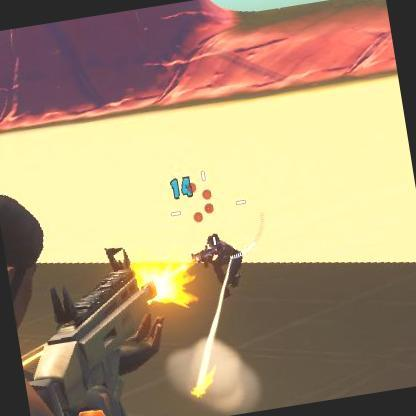person: (199, 234, 249, 296)
